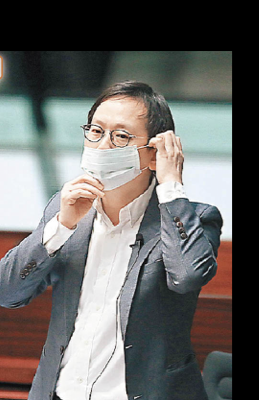with_mask: (83, 121, 149, 191)
